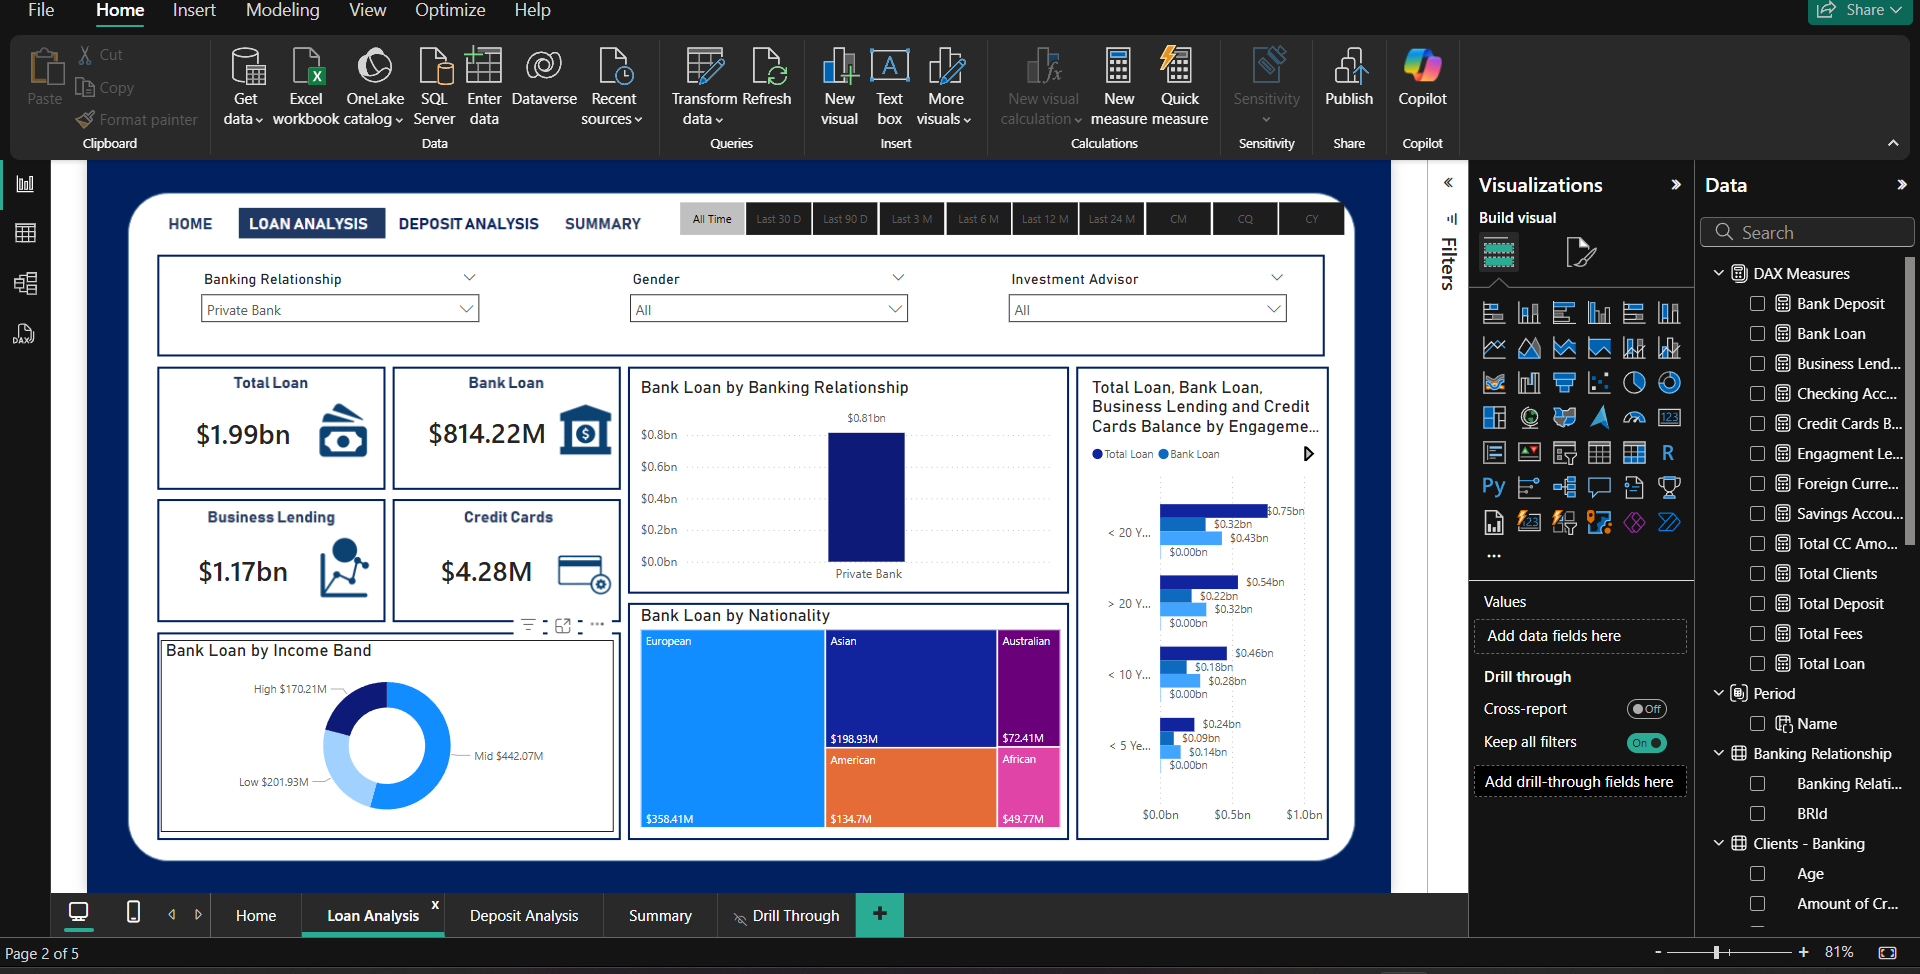

Layout of this report page (visuals, bound fields, positions):
{"tool":"powerbi","page":{"name":"Loan Analysis","canvas":[1280,720],"ordinal":1},"visuals":[{"type":"card","fields":{"Values":["DAX Measures.Total Loan"]},"box":[72.7,224,161.8,90.3],"z":0},{"type":"card","fields":{"Values":["DAX Measures.Bank Loan"]},"box":[307.2,224,172.4,89.1],"z":1000},{"type":"card","fields":{"Values":["DAX Measures.Credit Cards"]},"box":[307.2,360,171.2,89.1],"z":2000},{"type":"card","fields":{"Values":["DAX Measures.Business Lending"]},"box":[72.7,360,161.8,89.1],"z":3000},{"type":"slicer","fields":{"Values":["Banking Relationship.Banking Relationship"]},"box":[102.3,103.4,292.9,75.7],"z":4000},{"type":"slicer","fields":{"Values":["Gender.Gender"]},"box":[522.7,103.4,292.9,75.7],"z":5000},{"type":"slicer","fields":{"Values":["Investment Advisor.Investment Advisor"]},"box":[895,103.4,292.9,75.7],"z":6000},{"type":"donutChart","fields":{"Category":["Clients - Banking.Income Band"],"Y":["DAX Measures.Bank Loan"]},"box":[72.7,471.4,444.4,188.8],"z":7000},{"type":"clusteredBarChart","fields":{"Category":["Clients - Banking.Engagement Timeframe"],"Y":["DAX Measures.Total Loan","DAX Measures.Bank Loan","DAX Measures.Business Lending","DAX Measures.Credit Cards"]},"box":[981.5,212.2,236.9,447.9],"z":8000},{"type":"treemap","fields":{"Group":["Clients - Banking.Nationality"],"Values":["DAX Measures.Bank Loan"]},"box":[538.2,436.2,422.1,224],"z":9000},{"type":"lineClusteredColumnComboChart","fields":{"Y":["DAX Measures.Bank Loan"],"Category":["Banking Relationship.Banking Relationship"]},"box":[538.2,212.2,411.6,212.2],"z":10000},{"type":"slicer","fields":{"Values":["Period.Name"]},"box":[555.2,34.6,702.1,46.6],"z":11000},{"type":"actionButton","box":[72.8,44.2,58.5,31],"z":12000},{"type":"actionButton","box":[306.9,44.7,119.4,31],"z":13000},{"type":"actionButton","box":[471.6,44.2,83.6,31],"z":14000}]}

Visuals, with their boxes on the page's 1280x720 design canvas (x1, y1, x2, y2). These are canvas units, not pixel positions in the 1920x974 screenshot, which may show the page scaled, cropped or inside an application window:
card - DAX Measures.Total Loan: select_region(73, 224, 234, 314)
card - DAX Measures.Bank Loan: select_region(307, 224, 480, 313)
card - DAX Measures.Credit Cards: select_region(307, 360, 478, 449)
card - DAX Measures.Business Lending: select_region(73, 360, 234, 449)
slicer - Banking Relationship.Banking Relationship: select_region(102, 103, 395, 179)
slicer - Gender.Gender: select_region(523, 103, 816, 179)
slicer - Investment Advisor.Investment Advisor: select_region(895, 103, 1188, 179)
donutChart - Clients - Banking.Income Band x DAX Measures.Bank Loan: select_region(73, 471, 517, 660)
clusteredBarChart - Clients - Banking.Engagement Timeframe x DAX Measures.Total Loan: select_region(982, 212, 1218, 660)
treemap - Clients - Banking.Nationality x DAX Measures.Bank Loan: select_region(538, 436, 960, 660)
lineClusteredColumnComboChart - DAX Measures.Bank Loan x Banking Relationship.Banking Relationship: select_region(538, 212, 950, 424)
slicer - Period.Name: select_region(555, 35, 1257, 81)
actionButton: select_region(73, 44, 131, 75)
actionButton: select_region(307, 45, 426, 76)
actionButton: select_region(472, 44, 555, 75)
